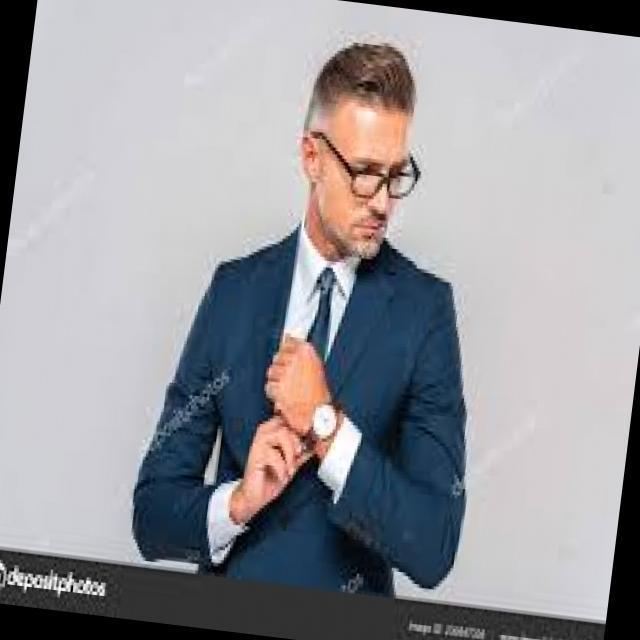Watch: (294, 397, 352, 454)
